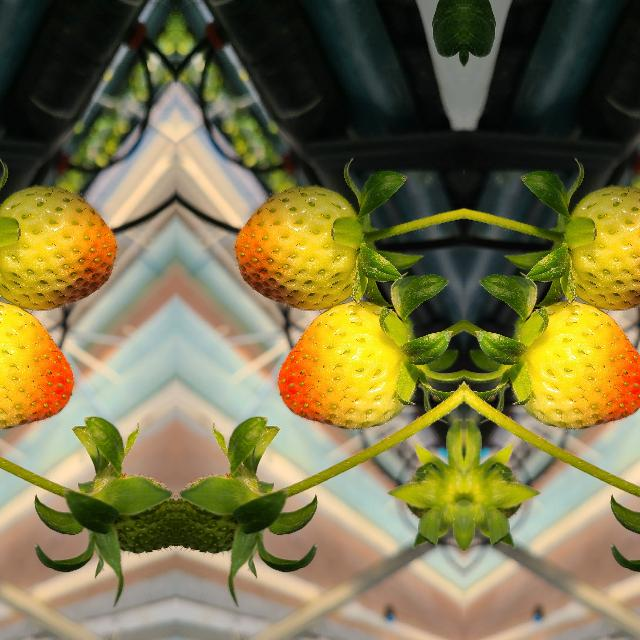Health_50: (270, 292, 414, 428), (511, 292, 640, 427), (234, 186, 356, 310), (0, 186, 116, 310), (0, 292, 80, 427), (570, 186, 640, 310)
